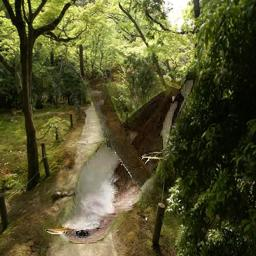Cuckoo: (43, 72, 199, 244)
